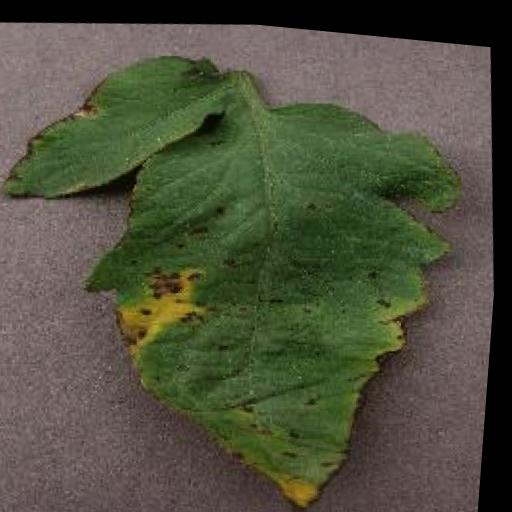Bacterial Spot: (0, 11, 498, 512)
